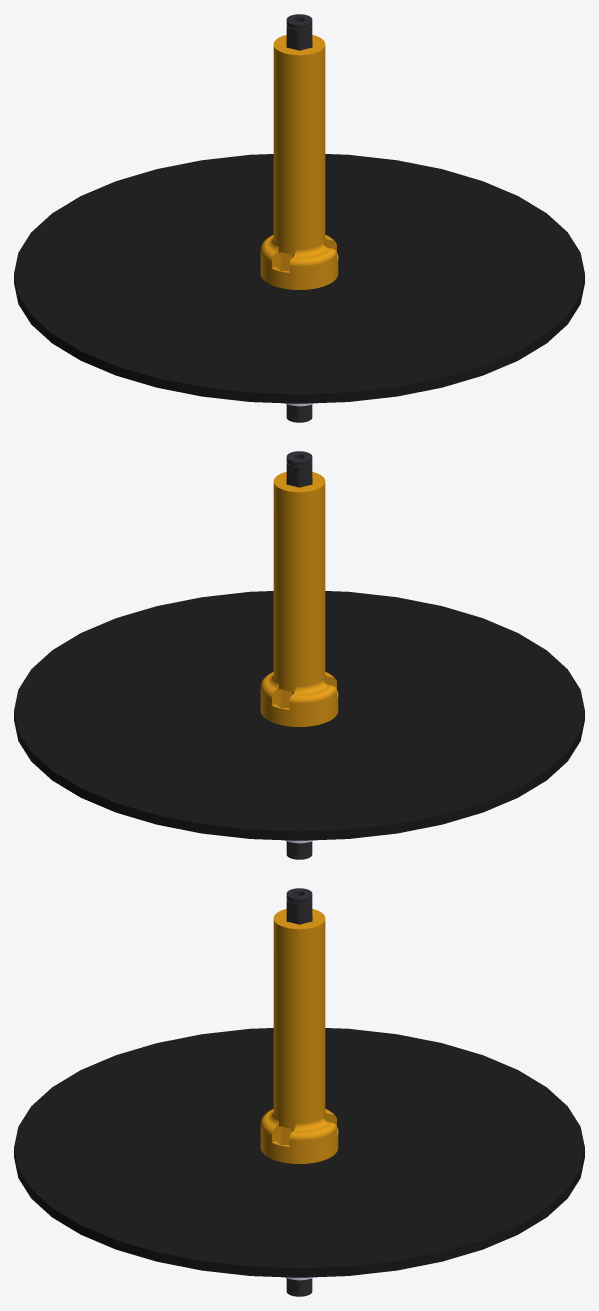
3 views of the same model, one above another, from view 1: azimuth 30°, elevation 25°; view 2: azimuth 150°, elevation 25°; view 3: azimuth 270°, elevation 25° (orthographic).
Visible parts, largest first — view 1: 261-3106 v6:1, 261-3108 v4:1, 261-3105 v1:1; view 2: 261-3106 v6:1, 261-3108 v4:1, 261-3105 v1:1; view 3: 261-3106 v6:1, 261-3108 v4:1, 261-3105 v1:1.
Boxes of the visible parts, x1=… form: 261-3106 v6:1: x1=14, y1=154, x2=584, y2=403; 261-3108 v4:1: x1=260, y1=35, x2=338, y2=289; 261-3105 v1:1: x1=286, y1=14, x2=312, y2=422; 261-3106 v6:1: x1=14, y1=591, x2=584, y2=840; 261-3108 v4:1: x1=260, y1=472, x2=338, y2=726; 261-3105 v1:1: x1=286, y1=451, x2=312, y2=859; 261-3106 v6:1: x1=14, y1=1028, x2=584, y2=1277; 261-3108 v4:1: x1=260, y1=909, x2=338, y2=1163; 261-3105 v1:1: x1=286, y1=888, x2=312, y2=1296.
Bounding box in the file's own units: 0.2794 × 0.2146 × 0.2794.
